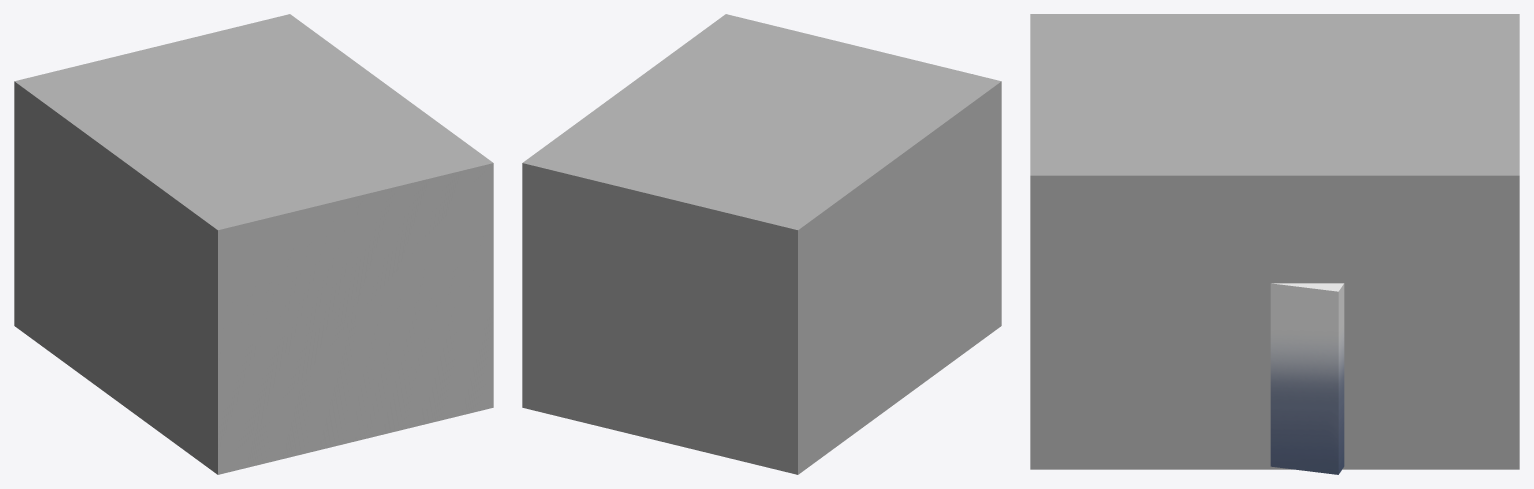
3 views of the same model, side by side, from view 1: azimuth 30°, elevation 25°; view 2: azimuth 150°, elevation 25°; view 3: azimuth 270°, elevation 25° (orthographic). The views are drawn at different scales.
Parts seen in each view (by area): view 1: box; view 2: box; view 3: box, xy_10328.
Part boxes in pixels (<box>): box: <box>14,14,493,474</box>; box: <box>522,14,1001,474</box>; box: <box>1030,14,1519,469</box>; xy_10328: <box>1270,283,1344,474</box>.
Bounding box in the file's own units: 0.3138 × 0.2531 × 0.3817.
2 materials, 1 textured.
